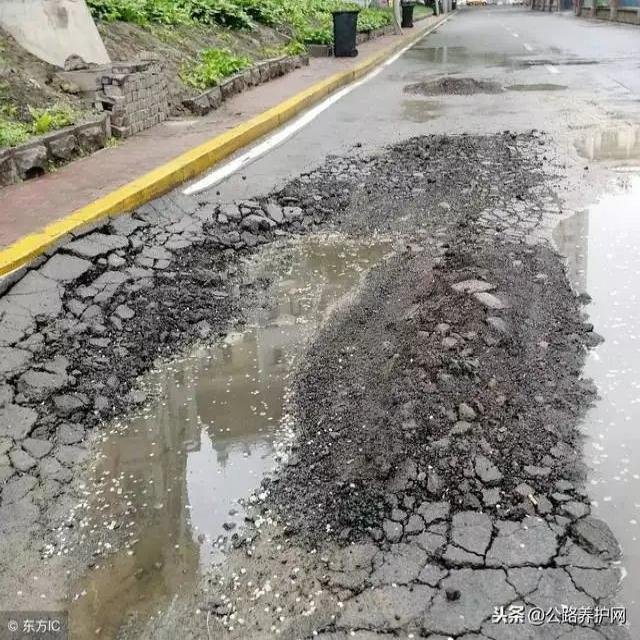Buraco: (5, 131, 600, 640), (400, 74, 508, 100)
